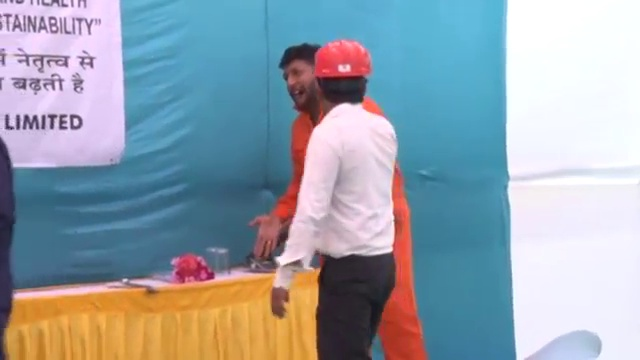helmet: (310, 37, 374, 77)
helmet_off: (276, 45, 325, 115)
helmet_on: (308, 37, 375, 117)
person: (249, 43, 430, 360), (269, 36, 400, 360)
